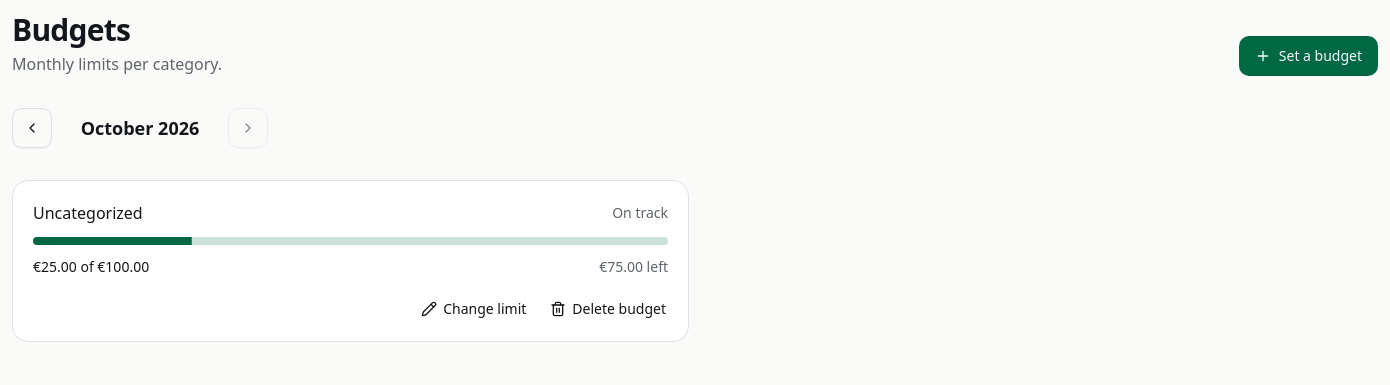
Test: BudgetsPage month switching › keeps the month switcher when another month fails, so the user can go back
Check: the progress indicator named "Uncategorized" is shown, box [33,237,668,245]
Click the button named "Previous month".
click(32, 128)  # box [12,108,52,148]
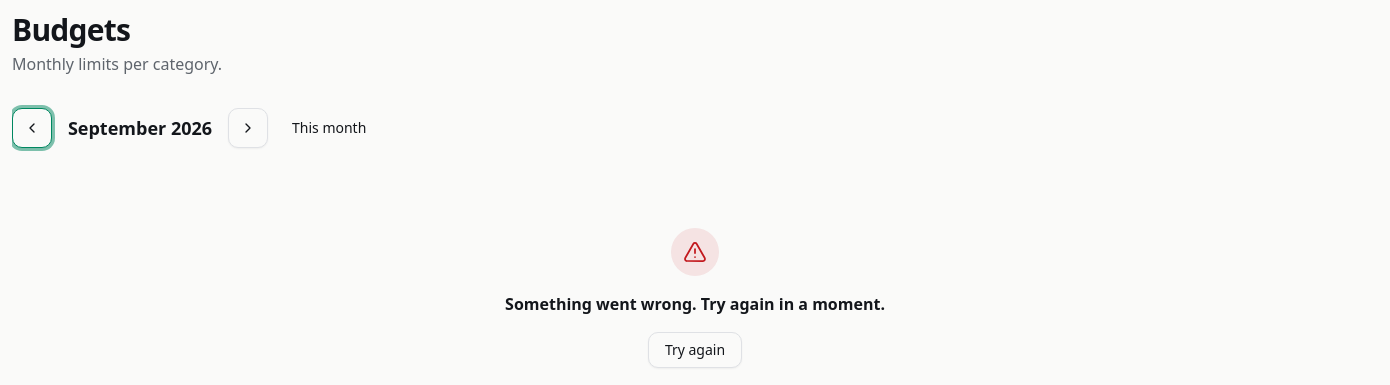
Check: the heading "Uncategorized" is gone
Click the button named "Next month".
click(248, 128)  # box [228,108,268,148]
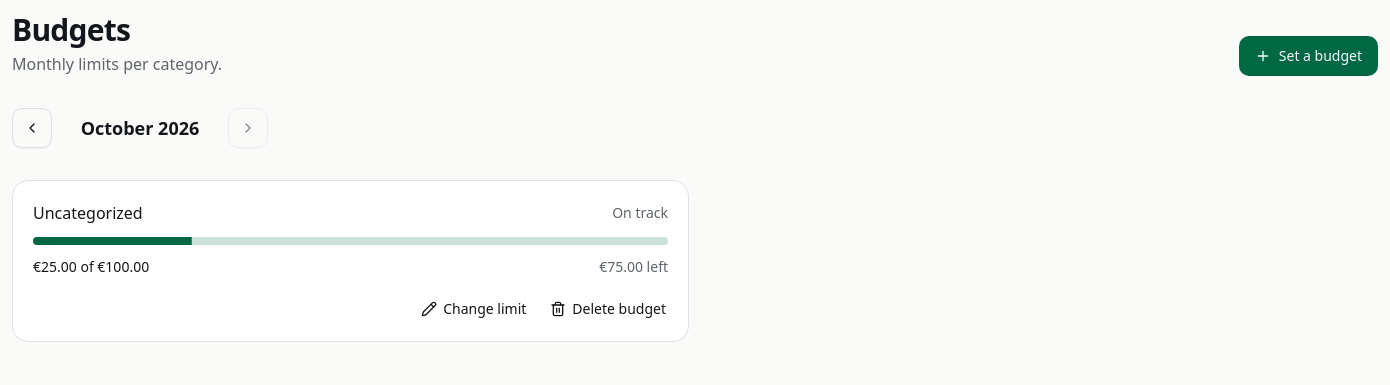
Check: the progress indicator named "Uncategorized" is shown, box [33,237,668,245]
